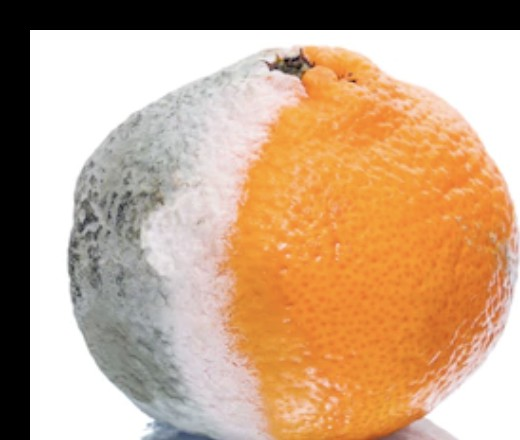rotten_orange: (69, 45, 520, 440)
